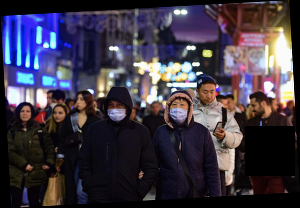with_mask: (168, 100, 189, 123), (106, 100, 127, 122)
without_mask: (199, 87, 217, 104), (250, 101, 265, 118), (75, 95, 87, 112), (52, 108, 66, 122), (19, 107, 32, 122), (151, 102, 160, 114)
